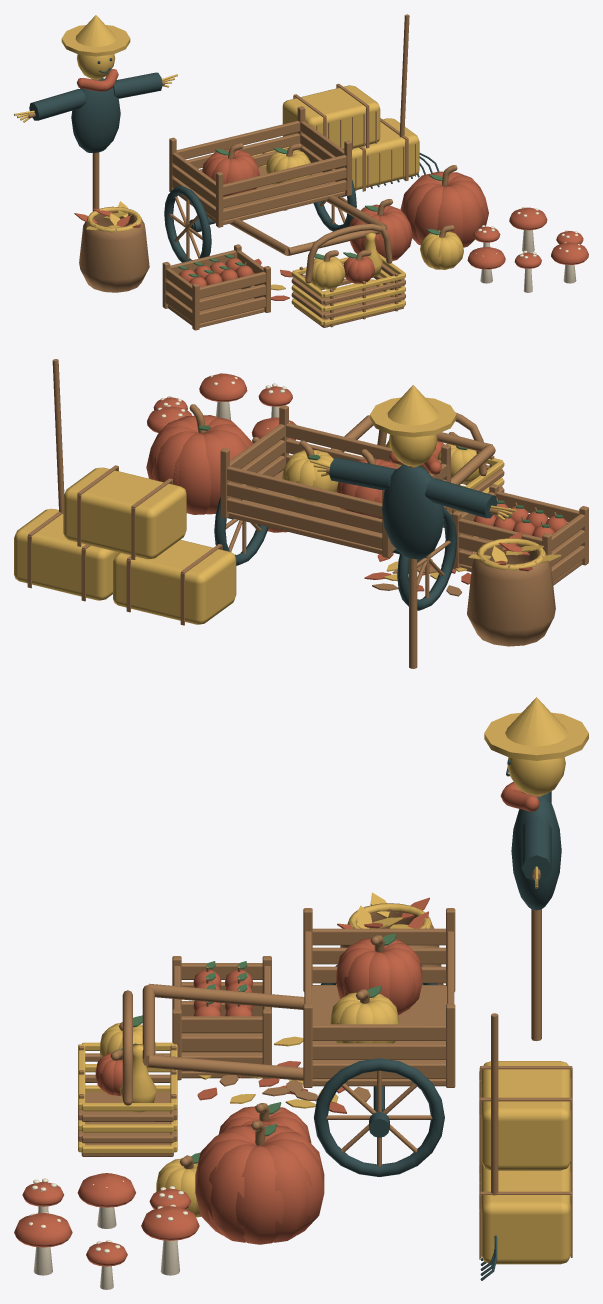
Rendered from almanac-gardens-autumn-harvest-vignette-1ad283a8__22103.glb.
3 views of the same model, one above another, from view 1: azimuth 30°, elevation 25°; view 2: azimuth 150°, elevation 25°; view 3: azimuth 270°, elevation 25° (orthographic). The views are drawn at different scales.
Parts seen in each view (by area): view 1: 000-harvest-cart/harvest-cart-oak, 002-hay-stack/hay-stack-gold, 003-pumpkin-trio/pumpkin-trio-clay, 004-apple-crate/apple-crate-oak, 001-scarecrow/scarecrow-blue, 006-leaf-sack/leaf-sack-oak, 005-gourd-basket/gourd-basket-gold, 005-gourd-basket/gourd-basket-oak, 009-mushroom-ring/mushroom-ring-clay, 001-scarecrow/scarecrow-gold, 000-harvest-cart/harvest-cart-iron, 002-hay-stack/hay-stack-oak (+11 smaller); view 2: 002-hay-stack/hay-stack-gold, 000-harvest-cart/harvest-cart-oak, 001-scarecrow/scarecrow-blue, 006-leaf-sack/leaf-sack-oak, 003-pumpkin-trio/pumpkin-trio-clay, 004-apple-crate/apple-crate-oak, 001-scarecrow/scarecrow-gold, 009-mushroom-ring/mushroom-ring-clay, 000-harvest-cart/harvest-cart-iron, 002-hay-stack/hay-stack-oak, 000-harvest-cart/harvest-cart-gold, 004-apple-crate/apple-crate-red (+7 smaller); view 3: 000-harvest-cart/harvest-cart-oak, 002-hay-stack/hay-stack-gold, 003-pumpkin-trio/pumpkin-trio-clay, 004-apple-crate/apple-crate-oak, 009-mushroom-ring/mushroom-ring-clay, 001-scarecrow/scarecrow-gold, 005-gourd-basket/gourd-basket-oak, 000-harvest-cart/harvest-cart-iron, 005-gourd-basket/gourd-basket-gold, 000-harvest-cart/harvest-cart-clay, 001-scarecrow/scarecrow-blue, 009-mushroom-ring/mushroom-ring-ivory (+11 smaller).
Part boxes in pixels (x1,y1,x2,y2): 000-harvest-cart/harvest-cart-oak: (169,106,387,259); 002-hay-stack/hay-stack-gold: (251,85,419,190); 003-pumpkin-trio/pumpkin-trio-clay: (349,171,488,260); 004-apple-crate/apple-crate-oak: (162,244,270,330); 001-scarecrow/scarecrow-blue: (29,72,162,152); 006-leaf-sack/leaf-sack-oak: (79,206,149,292); 005-gourd-basket/gourd-basket-gold: (291,253,405,325); 005-gourd-basket/gourd-basket-oak: (291,223,405,327); 009-mushroom-ring/mushroom-ring-clay: (467,207,588,269); 001-scarecrow/scarecrow-gold: (14,15,177,122); 000-harvest-cart/harvest-cart-iron: (164,180,356,262); 002-hay-stack/hay-stack-oak: (262,83,415,210); 002-hay-stack/hay-stack-gold: (14,467,236,624); 000-harvest-cart/harvest-cart-oak: (220,405,495,598); 001-scarecrow/scarecrow-blue: (329,457,497,559); 006-leaf-sack/leaf-sack-oak: (467,538,555,646); 003-pumpkin-trio/pumpkin-trio-clay: (146,415,287,532); 004-apple-crate/apple-crate-oak: (452,484,588,585); 001-scarecrow/scarecrow-gold: (310,385,516,520); 009-mushroom-ring/mushroom-ring-clay: (147,373,296,440); 000-harvest-cart/harvest-cart-iron: (214,497,456,610); 002-hay-stack/hay-stack-oak: (27,465,222,625); 000-harvest-cart/harvest-cart-gold: (282,450,338,502); 004-apple-crate/apple-crate-red: (474,503,567,537); 000-harvest-cart/harvest-cart-oak: (142,908,455,1166); 002-hay-stack/hay-stack-gold: (481,1061,571,1264); 003-pumpkin-trio/pumpkin-trio-clay: (195,1105,324,1244); 004-apple-crate/apple-crate-oak: (172,956,271,1080); 009-mushroom-ring/mushroom-ring-clay: (14,1173,199,1266); 001-scarecrow/scarecrow-gold: (484,697,588,888); 005-gourd-basket/gourd-basket-oak: (78,990,177,1156); 000-harvest-cart/harvest-cart-iron: (313,964,444,1176); 005-gourd-basket/gourd-basket-gold: (78,1023,177,1153); 000-harvest-cart/harvest-cart-clay: (336,938,422,1015); 001-scarecrow/scarecrow-blue: (511,791,561,910); 009-mushroom-ring/mushroom-ring-ivory: (28,1174,187,1289).
Size of the model in its own units: 3.59 by 1.8 by 2.74.
